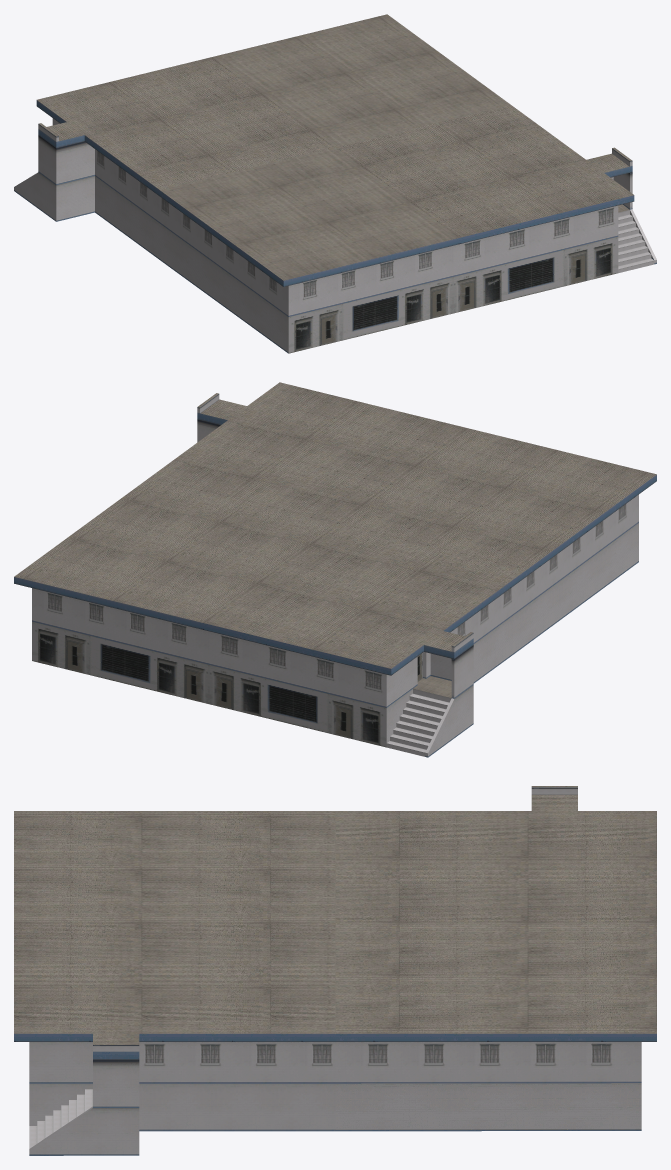
The model's file is shop12_lvs.obj.
3 renders of one model, top to bottom at view 1: azimuth 30°, elevation 25°; view 2: azimuth 150°, elevation 25°; view 3: azimuth 270°, elevation 25°, orthographic. The views are drawn at different scales.
Parts seen in each view (by area): view 1: shop12_lvs; view 2: shop12_lvs; view 3: shop12_lvs.
Boxes of the visible parts, left/top/right/bottom form: shop12_lvs: left=14, top=14, right=656, bottom=353; shop12_lvs: left=14, top=382, right=656, bottom=757; shop12_lvs: left=14, top=786, right=656, bottom=1155.
Size of the model in its own units: 40 by 8 by 42.
4 materials, 4 textured.
